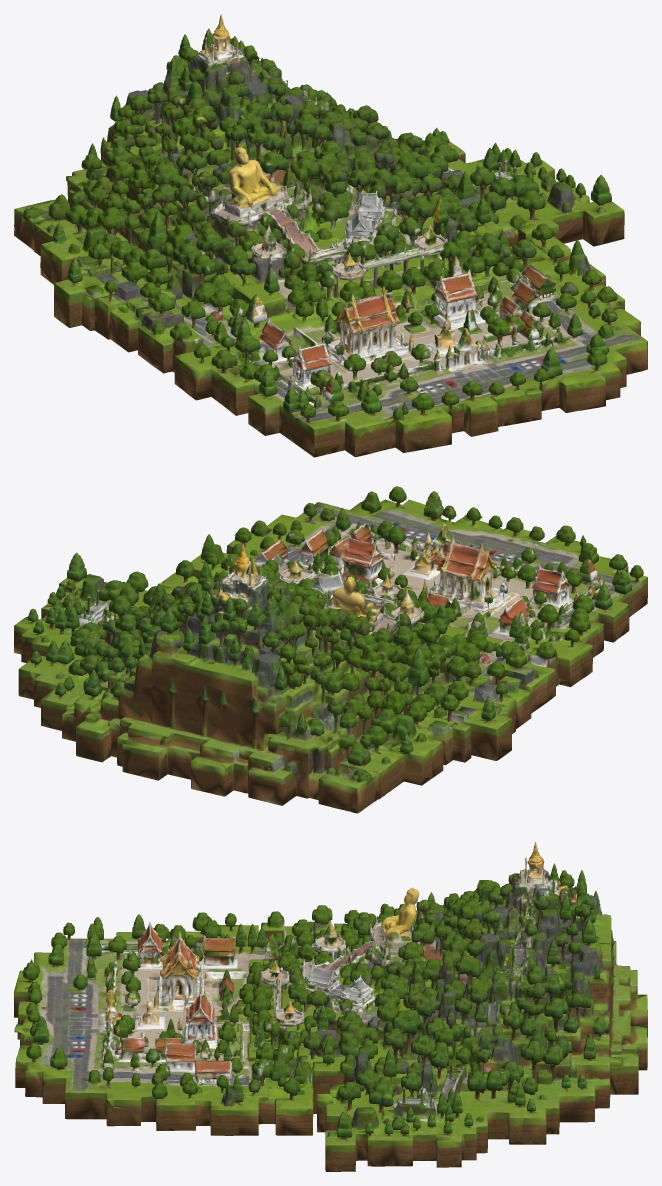
Rendered from khao-wong.glb.
3 views of the same model, one above another, from view 1: azimuth 30°, elevation 25°; view 2: azimuth 150°, elevation 25°; view 3: azimuth 270°, elevation 25° (orthographic). The views are drawn at different scales.
Bounding box in the file's own units: 1.64 × 0.6556 × 1.9.
1 material, 1 textured.
